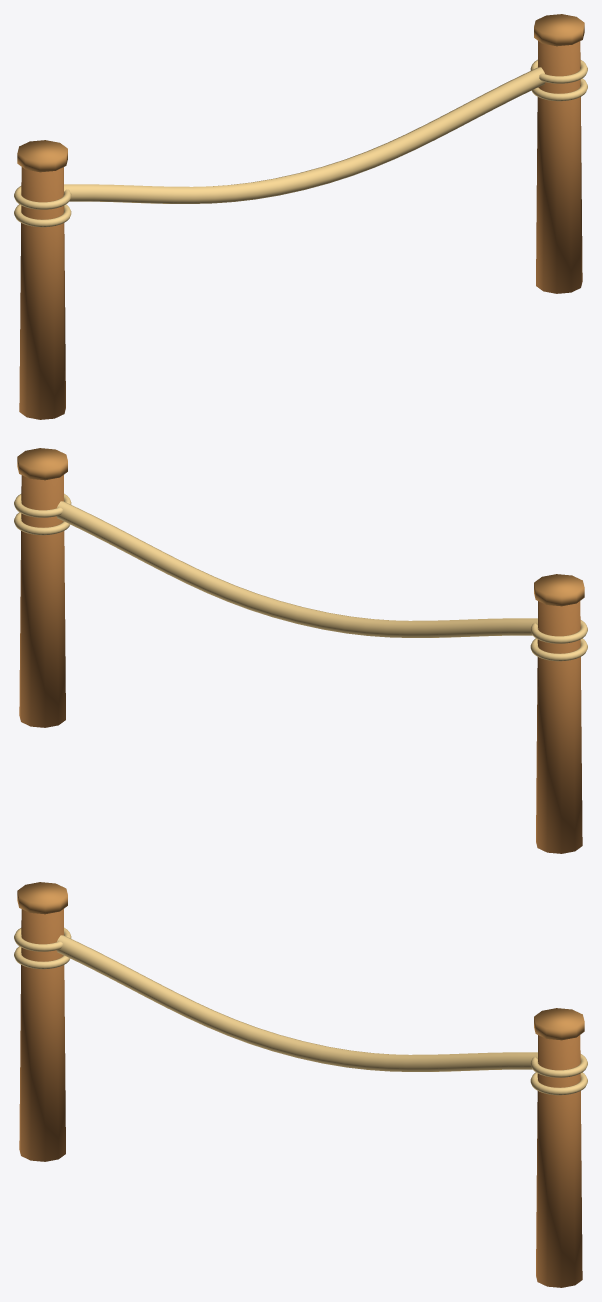
Rendered from fence_rope.glb.
The picture shows the model from 3 angles, top to bottom: view 1: azimuth 30°, elevation 25°; view 2: azimuth 150°, elevation 25°; view 3: azimuth 330°, elevation 25°; orthographic projection.
Visible parts, largest first — view 1: fence_rope; view 2: fence_rope; view 3: fence_rope.
Part boxes in pixels (box(x1,y1,x2,y2)): fence_rope: box(14, 14, 587, 419); fence_rope: box(14, 448, 587, 853); fence_rope: box(14, 882, 587, 1287).
Size of the model in its own units: 1.97 by 0.8625 by 0.174.
